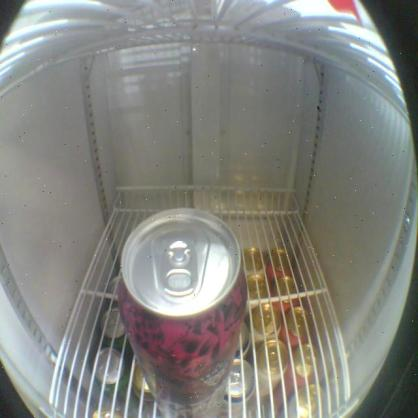can: (114, 208, 243, 407)
